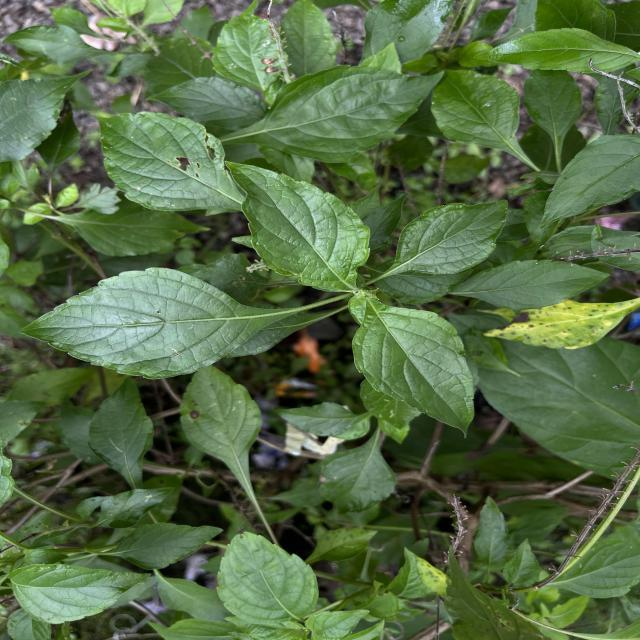Ocimum gratissimum: (13, 265, 320, 382), (217, 156, 374, 296), (240, 63, 447, 166), (345, 292, 477, 443), (93, 106, 250, 215), (178, 365, 264, 498), (530, 130, 640, 233), (381, 197, 513, 281), (214, 527, 324, 625), (7, 558, 152, 626), (0, 67, 97, 168), (448, 258, 612, 314), (470, 24, 640, 77), (86, 374, 155, 488)
